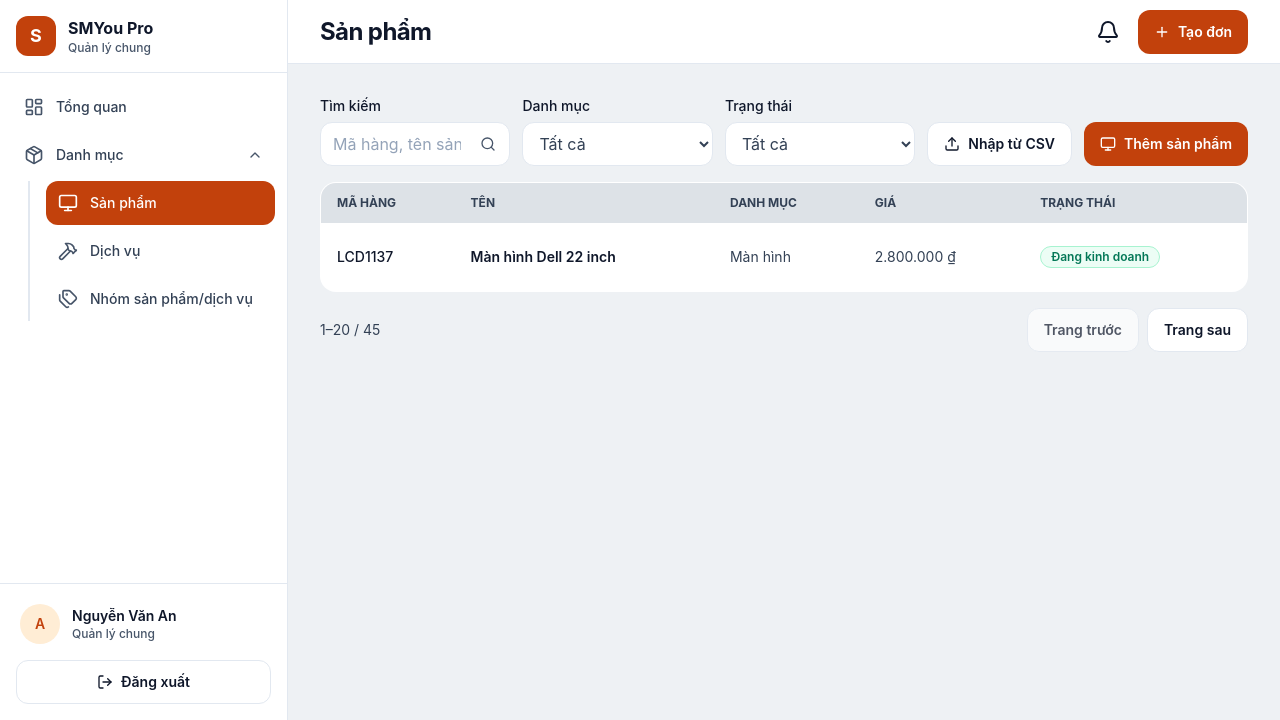
Test: AC-CAT-012 danh sách sản phẩm › phân trang: Trang sau đổi offset
Expected: the text "1–20 / 45" is shown, [320, 320, 380, 340]
Step 1. Click the button "Trang sau" → x=1197, y=330, box [1147, 308, 1248, 352]
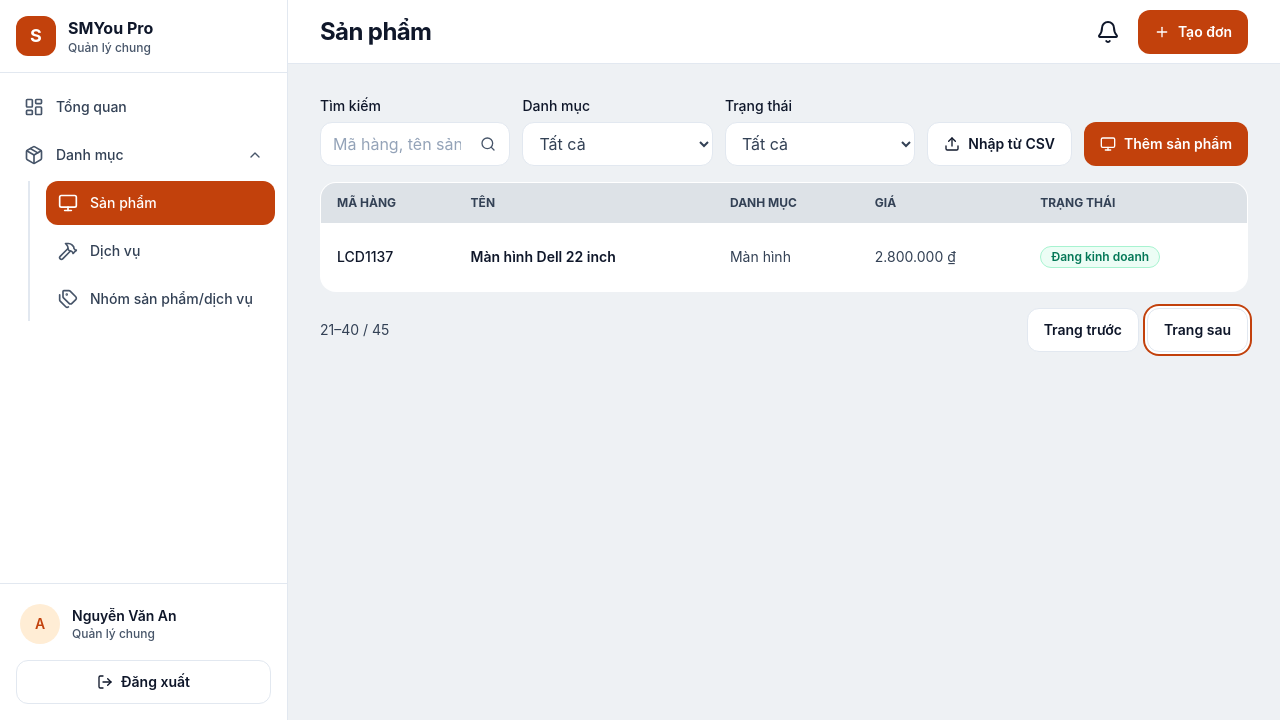
Expected: the text "21–40 / 45" is shown, [320, 320, 389, 340]
